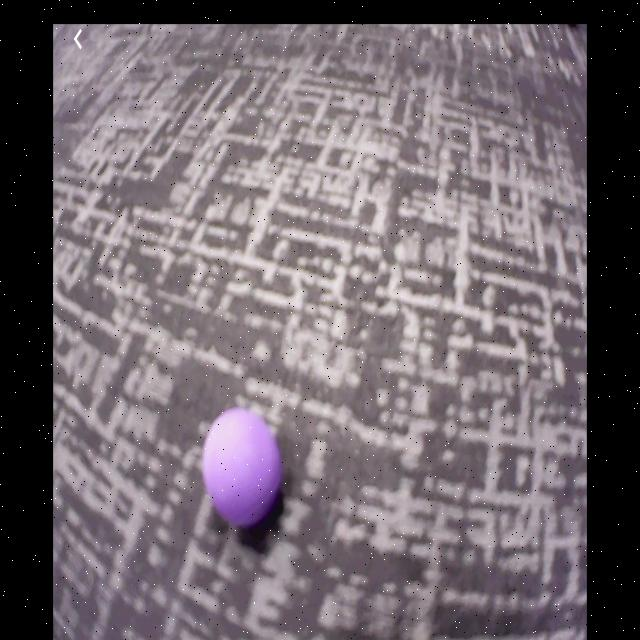ball: (205, 411, 281, 525)
